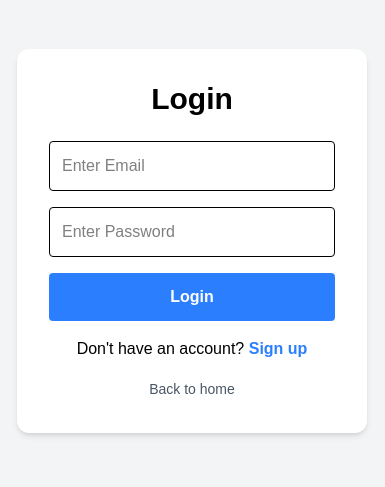
Test: Login Page › should display error message on login failure
Type "test@example.com" into the field with placeholder "Enter Email" at (192, 166), box [49, 141, 335, 191]
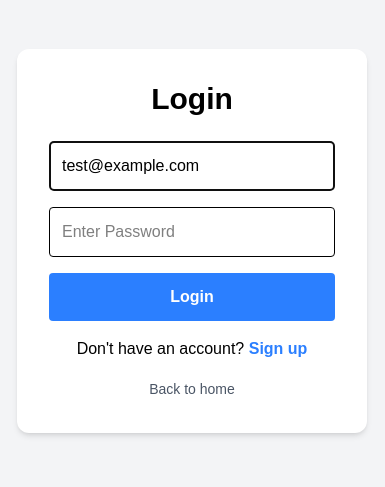
Type "wrongpassword" into the password field with placeholder "Enter Password" at (192, 232), box [49, 207, 335, 257]
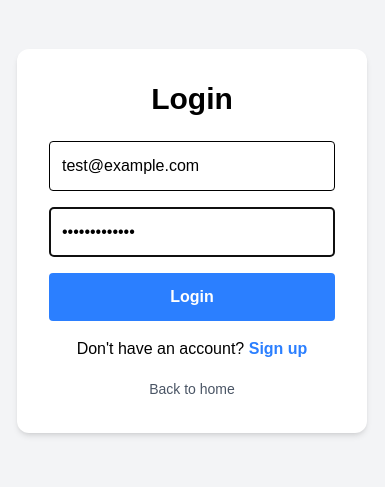
Click the button "Login" at (192, 297), box [49, 273, 335, 321]
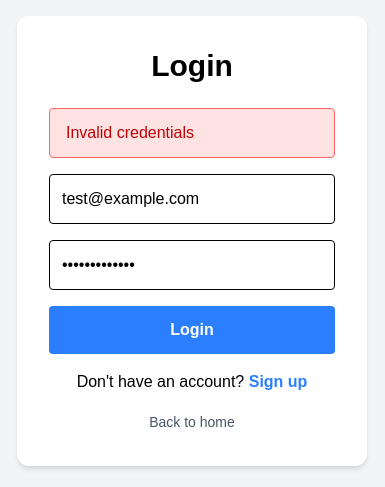
Expected: the text "Invalid credentials" is shown, [49, 108, 335, 158]
